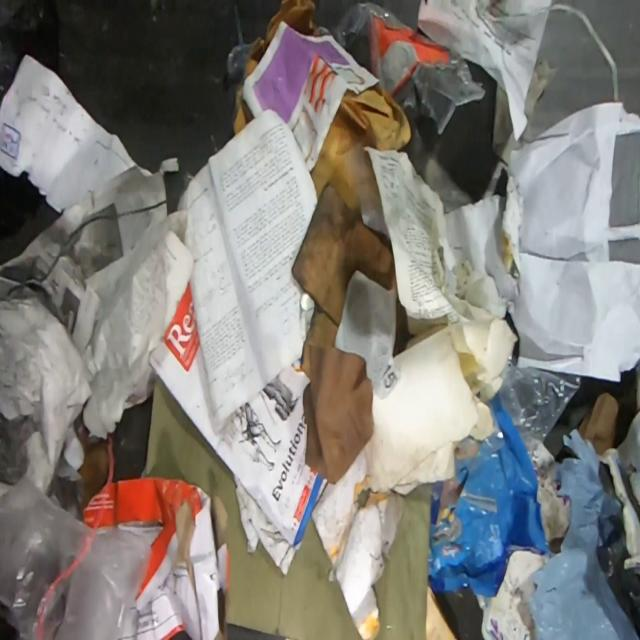cardboard: (143, 375, 432, 639), (290, 183, 410, 486), (81, 476, 227, 640), (310, 84, 410, 214), (231, 0, 322, 136)
rigid_plastic: (331, 0, 487, 136)
soft_plastic: (521, 426, 640, 639), (0, 473, 151, 640), (428, 395, 550, 596), (0, 0, 61, 239), (498, 348, 582, 458)
